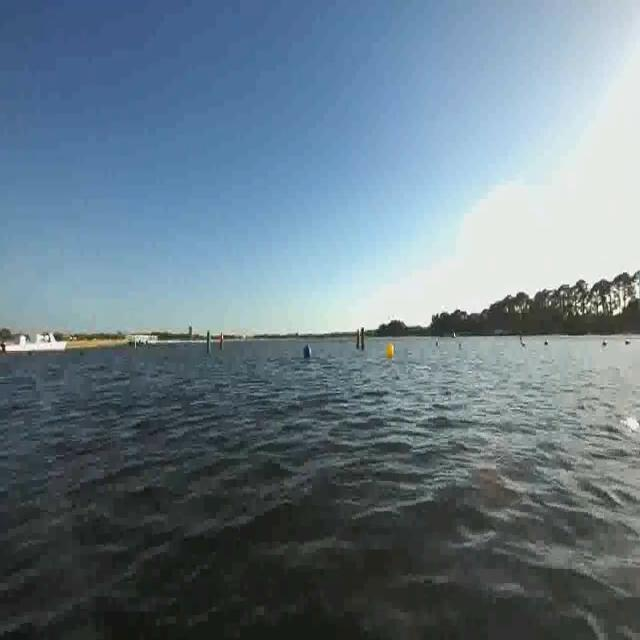blue-buoy: (302, 344, 310, 360)
yellow-buoy: (386, 342, 395, 359)
